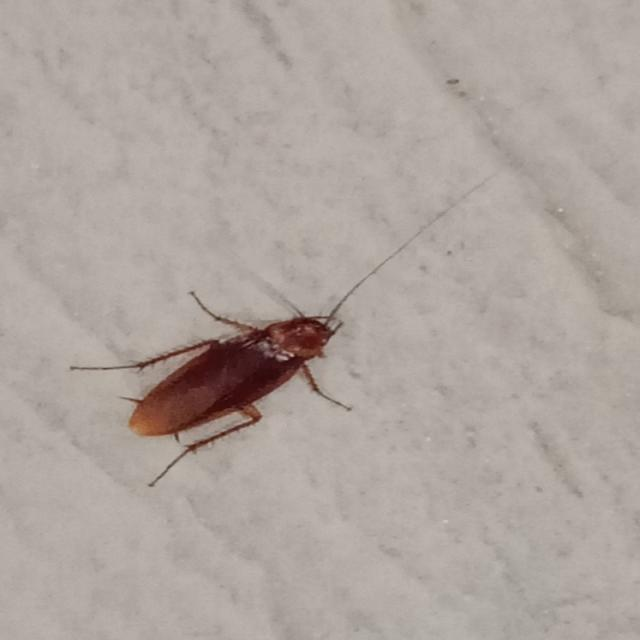Cockroach: (69, 255, 362, 488)
